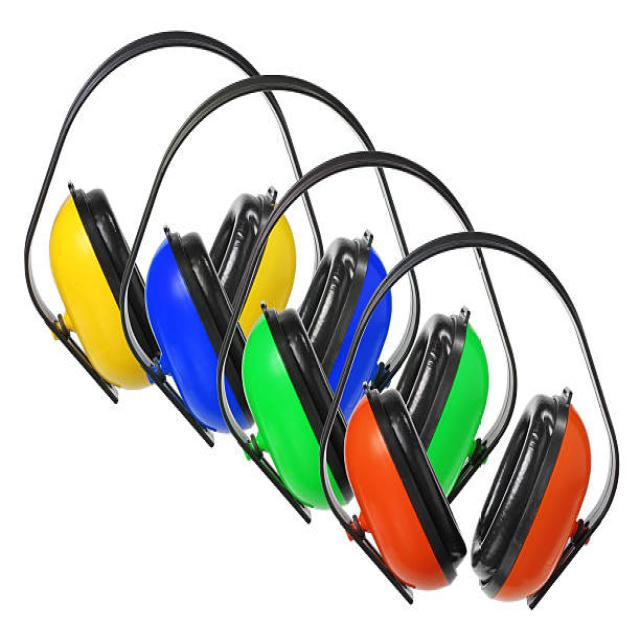Ear-protection: (313, 227, 634, 633), (18, 25, 336, 411), (214, 152, 471, 532), (117, 73, 343, 448), (297, 174, 417, 411), (357, 227, 495, 408)
